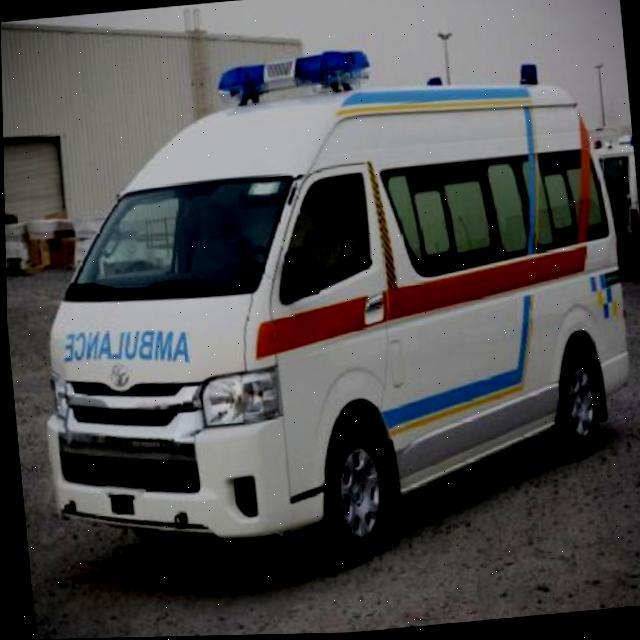emergency: (13, 26, 640, 594)
